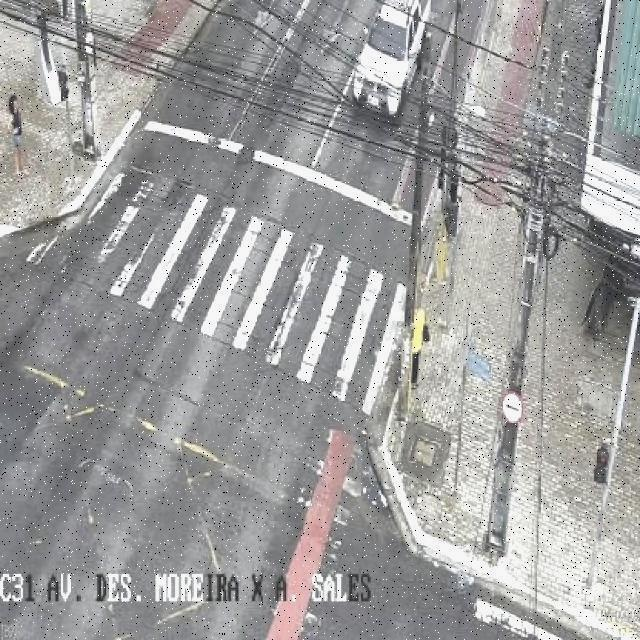Truck: (352, 0, 434, 117), (73, 248, 84, 248)
